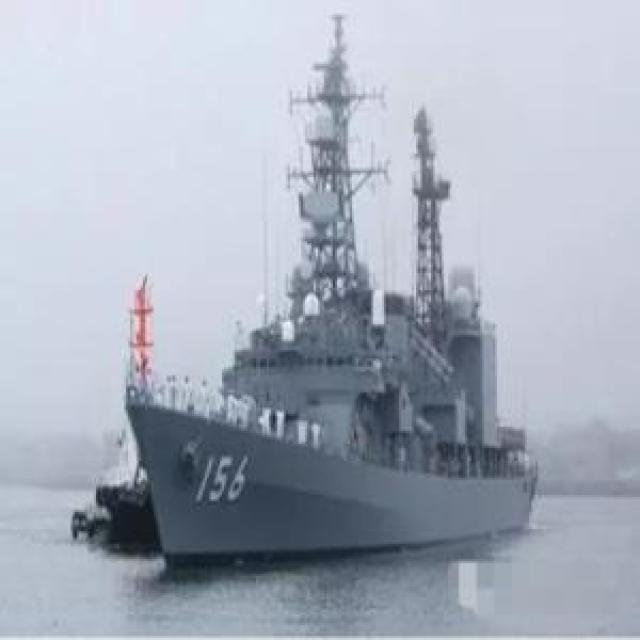navalvessels: (113, 26, 542, 564)
